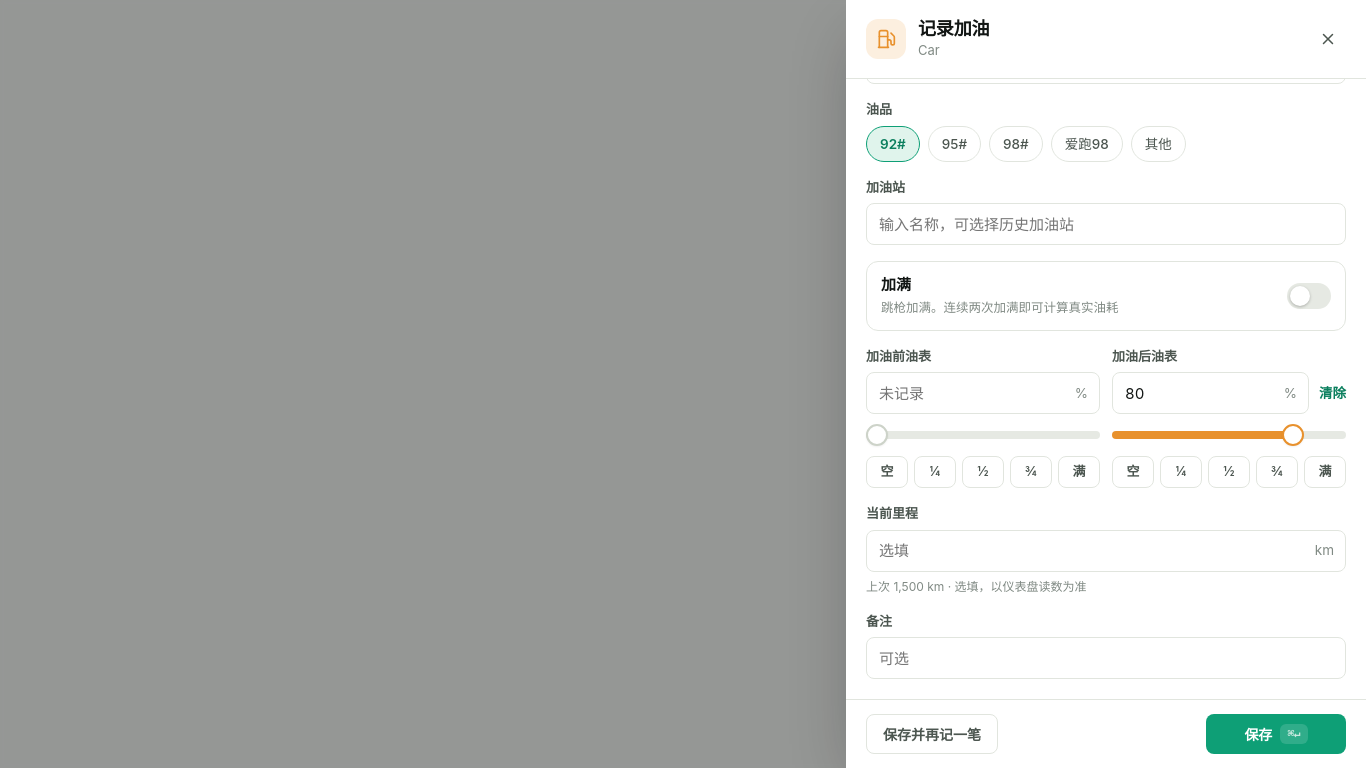
Test: FuelEditor › synchronizes full-tank toggles with both typed and preset levels
The width and height of the screenshot is (1366, 768).
Earlier steps of the test are not shown.
(page scrolled)
Click the switch labelled "加满 跳枪加满。连续两次加满即可计算真实油耗": (896, 285) [866, 261, 1346, 331]
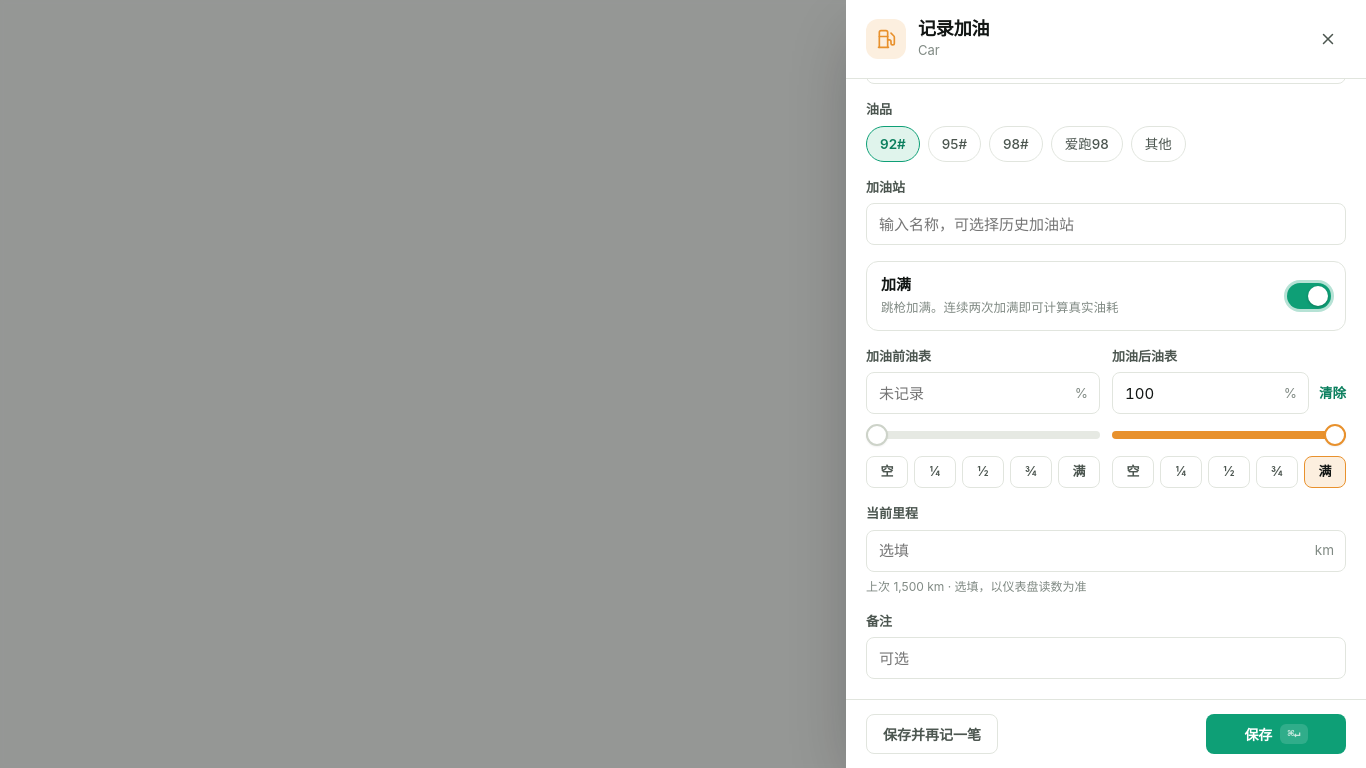
Expected: the number field labelled "加油后油表" holds "100"
Replace the text in the number field labelled "加油后油表" with "75": (1210, 393) [1112, 372, 1309, 414]
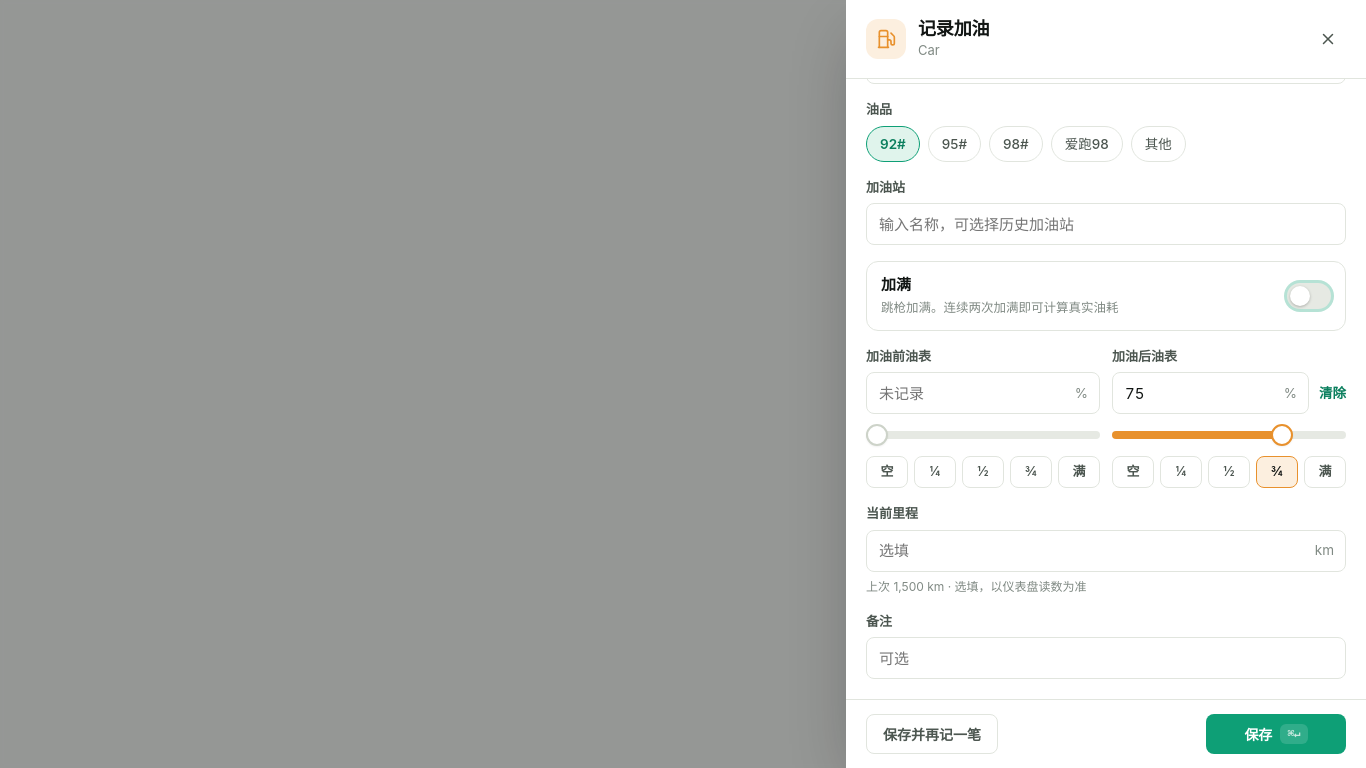
Expected: the switch labelled "加满 跳枪加满。连续两次加满即可计算真实油耗" is not checked, [866, 261, 1346, 331]
Click the button "满" below "加油后油表": (1325, 472) [1304, 456, 1346, 488]
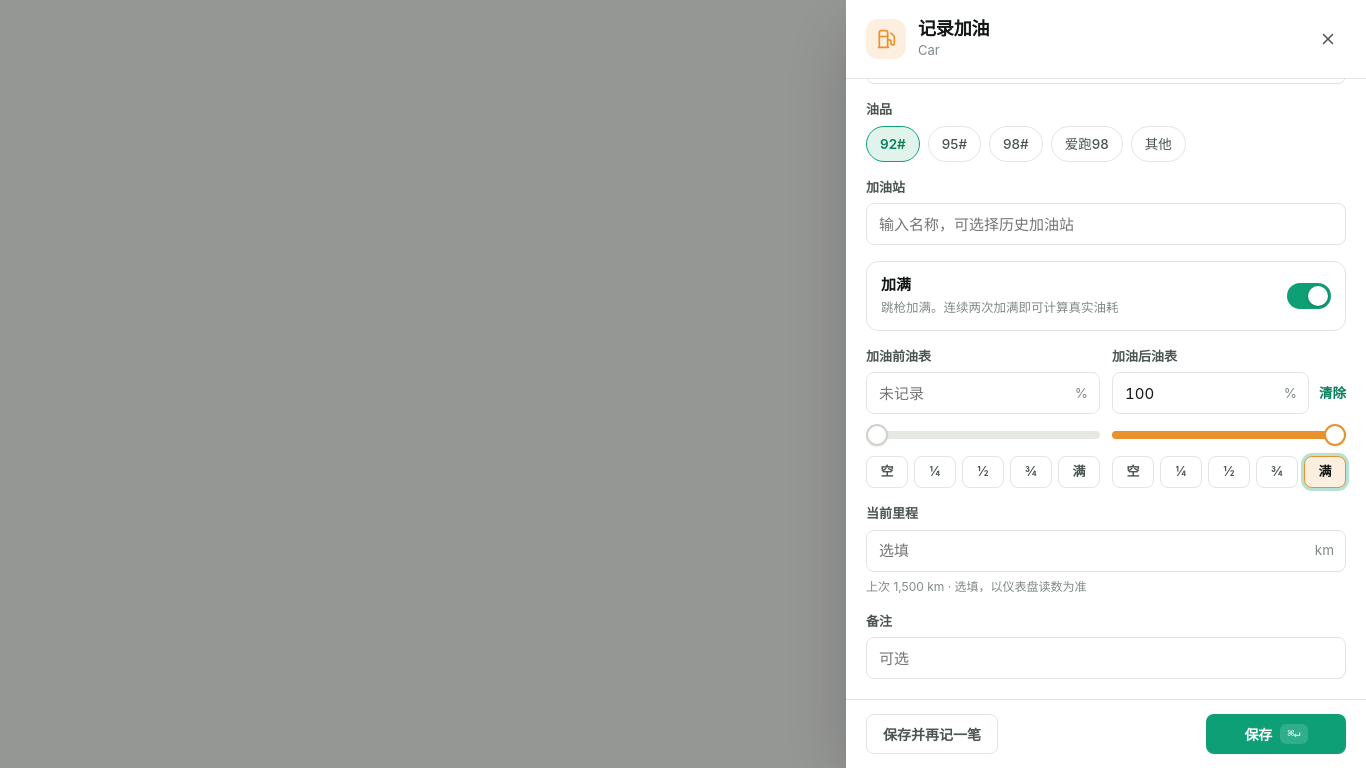
Expected: the switch labelled "加满 跳枪加满。连续两次加满即可计算真实油耗" is checked
Click the switch labelled "加满 跳枪加满。连续两次加满即可计算真实油耗": (896, 285) [866, 261, 1346, 331]
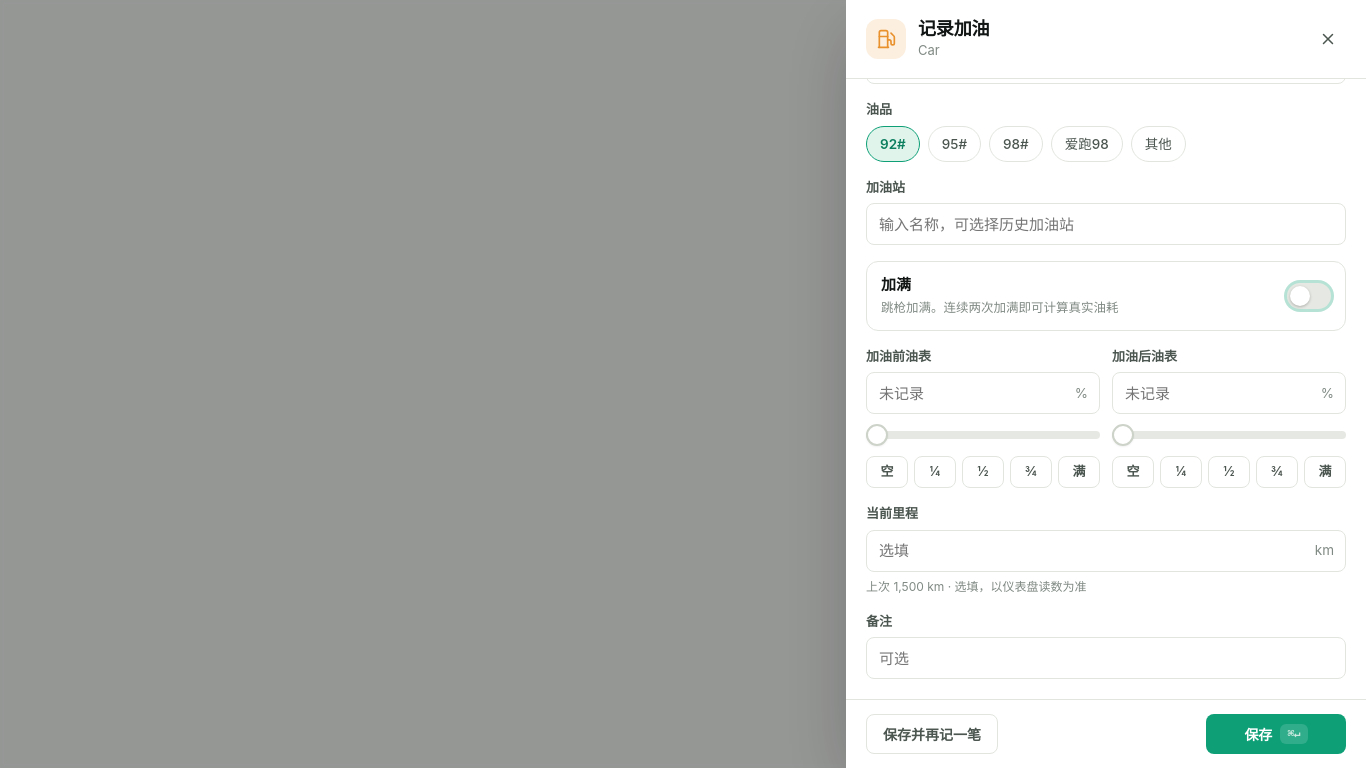
Expected: the number field labelled "加油后油表" is empty
In the number field labelled "加油后油表": (1229, 393) [1112, 372, 1346, 414], type "100"
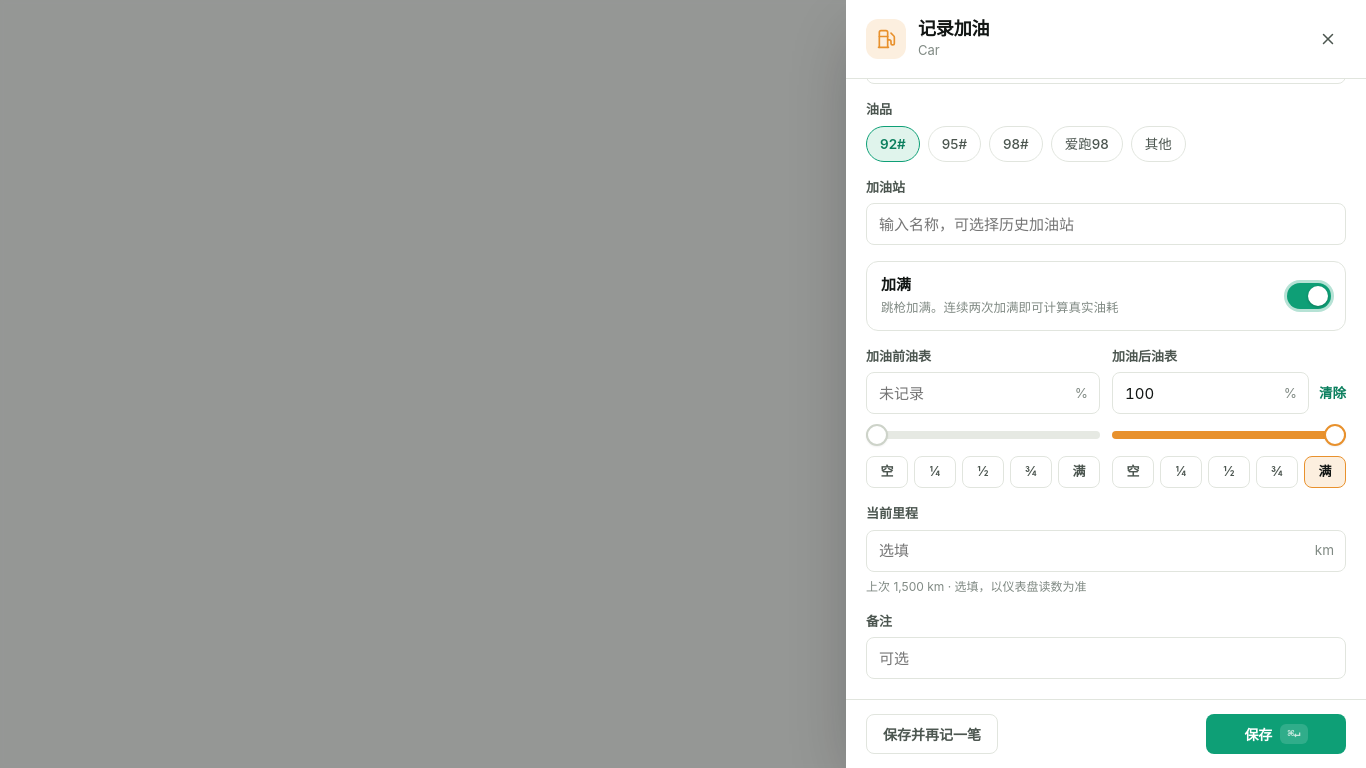
Clear the number field labelled "加油后油表": (1210, 393) [1112, 372, 1309, 414]
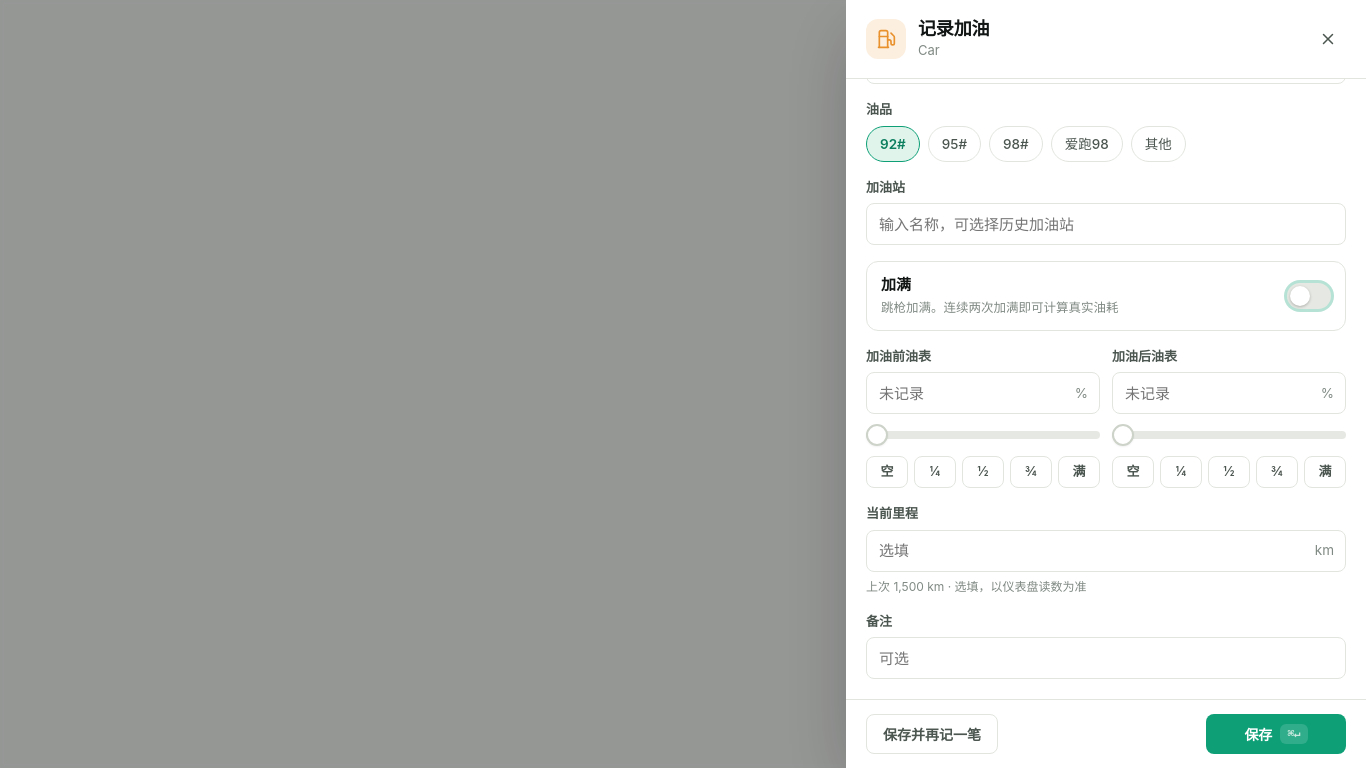
Expected: the switch labelled "加满 跳枪加满。连续两次加满即可计算真实油耗" is not checked, [866, 261, 1346, 331]
